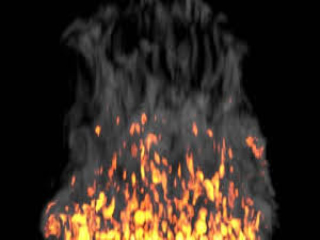fire: (41, 150, 270, 240)
smoke: (71, 18, 257, 144)
